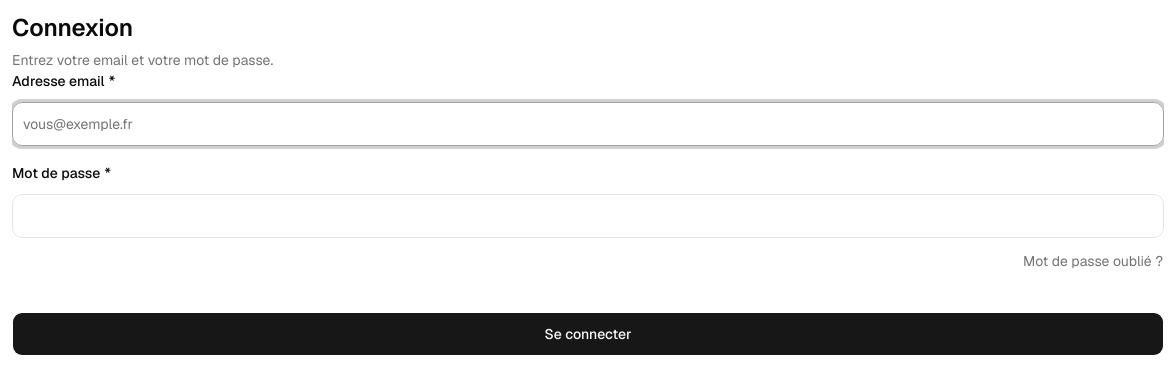
SignInScreen › keeps the way back from the reset mode when sign-up is disabled
The image size is (1176, 372).
Click the button "Mot de passe oublié ?" at (1093, 261), box [1022,250,1164,272]
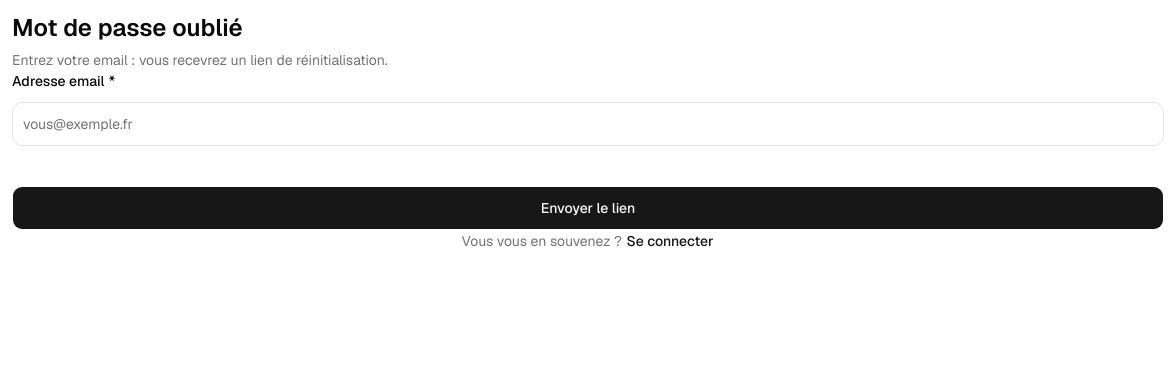
Expected: the button "Se connecter" is shown, [625,230,714,252]
